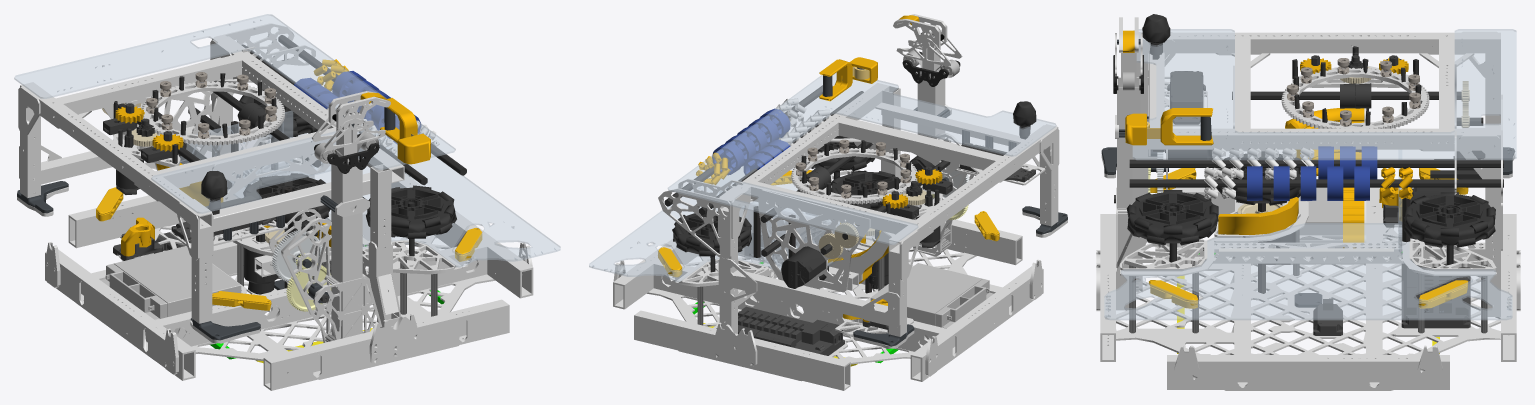
Rendered from 341-body.glb.
3 renders of one model, left to right at view 1: azimuth 30°, elevation 25°; view 2: azimuth 150°, elevation 25°; view 3: azimuth 270°, elevation 25°, orthographic. The views are drawn at different scales.
Visible parts, largest first — view 1: underside tabletop extension gusset, main bottom plate, Clamping Hook, Falcon 500 Brushless Motor (V3), Battery, uptake ramp main, 1/2" Rounded Hex (REV) (2 in), Mod - Wago Mount Upper, 2.25" Compliant Wheel (50A, 1" Wide, 1/2" Hex Bore), WCP-0775 Rev1, WCP Through Bore Encoder, 70t 20dp Aluminum 1/2" Hex Bore Pocketed Gear (WCP-0144) (+6 smaller); view 2: underside tabletop extension gusset, main bottom plate, Falcon 500 Brushless Motor (V3), Clamping Hook, Battery, 8t Steel Spur Gear (20 DP, 10t Center Distance, 8mm SplineXS, uptake ramp main, 2.25" Compliant Wheel (50A, 1" Wide, 1/2" Hex Bore), 1/2" Rounded Hex (REV) (2 in), Mod - Wago Mount Upper, WCP-0775 Rev1, WCP Through Bore Encoder (+4 smaller); view 3: underside tabletop extension gusset, main bottom plate, Falcon 500 Brushless Motor (V3), uptake ramp main, Clamping Hook, 2.25" Compliant Wheel (50A, 1" Wide, 1/2" Hex Bore), 8t Steel Spur Gear (20 DP, 10t Center Distance, 8mm SplineXS, Mod - Wago Mount Upper, Battery, Churro Lite (4.75 in), WCP-0775 Rev1, 1/2" Rounded Hex (REV) (2 in) (+4 smaller).
Part boxes in pixels (x1,y1,x2,y2): underside tabletop extension gusset: [17, 23, 533, 390]; main bottom plate: [14, 14, 560, 267]; Clamping Hook: [142, 45, 385, 342]; Falcon 500 Brushless Motor (V3): [113, 35, 466, 294]; Battery: [101, 246, 241, 333]; uptake ramp main: [115, 59, 430, 256]; 1/2" Rounded Hex (REV) (2 in): [17, 107, 395, 340]; Mod - Wago Mount Upper: [96, 187, 482, 310]; 2.25" Compliant Wheel (50A, 1" Wide, 1/2" Hex Bore): [294, 71, 421, 144]; WCP-0775 Rev1: [146, 72, 276, 138]; WCP Through Bore Encoder: [103, 103, 267, 162]; 70t 20dp Aluminum 1/2" Hex Bore Pocketed Gear (WCP-0144): [272, 230, 321, 282]; underside tabletop extension gusset: [613, 14, 1067, 390]; main bottom plate: [589, 72, 1056, 282]; Falcon 500 Brushless Motor (V3): [664, 85, 1036, 289]; Clamping Hook: [678, 19, 973, 256]; Battery: [870, 263, 993, 339]; 8t Steel Spur Gear (20 DP, 10t Center Distance, 8mm SplineXS: [716, 306, 888, 355]; uptake ramp main: [696, 15, 942, 322]; 2.25" Compliant Wheel (50A, 1" Wide, 1/2" Hex Bore): [712, 108, 790, 175]; 1/2" Rounded Hex (REV) (2 in): [822, 35, 1067, 346]; Mod - Wago Mount Upper: [658, 170, 999, 319]; WCP-0775 Rev1: [795, 139, 910, 198]; WCP Through Bore Encoder: [800, 166, 952, 219]; underside tabletop extension gusset: [1096, 17, 1520, 390]; main bottom plate: [1104, 29, 1516, 320]; Falcon 500 Brushless Motor (V3): [1126, 14, 1503, 265]; uptake ramp main: [1123, 30, 1412, 248]; Clamping Hook: [1115, 17, 1456, 292]; 2.25" Compliant Wheel (50A, 1" Wide, 1/2" Hex Bore): [1247, 146, 1377, 200]; 8t Steel Spur Gear (20 DP, 10t Center Distance, 8mm SplineXS: [1153, 149, 1470, 335]; Mod - Wago Mount Upper: [1149, 168, 1468, 308]; Battery: [1253, 179, 1363, 264]; Churro Lite (4.75 in): [1129, 229, 1487, 333]; WCP-0775 Rev1: [1287, 58, 1420, 126]; 1/2" Rounded Hex (REV) (2 in): [1101, 39, 1514, 307].
Bounding box in the file's own units: 0.6858 × 0.4864 × 0.6858.
